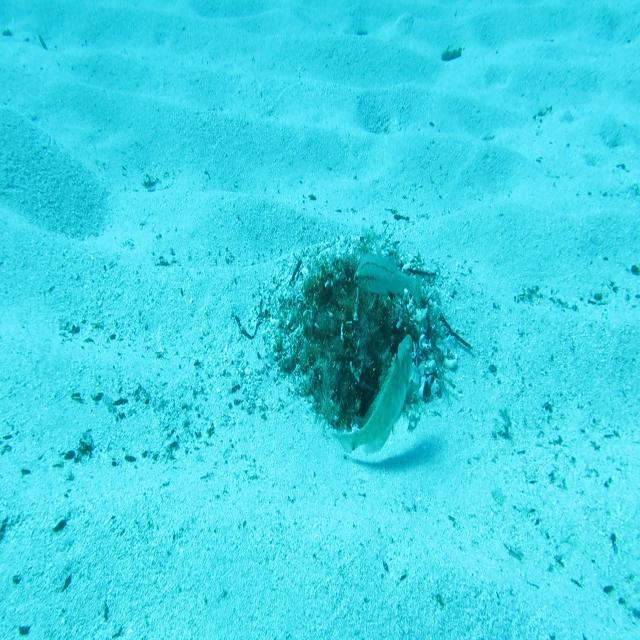GB: (328, 332, 414, 459)
core_nest: (326, 267, 375, 326)
female: (353, 249, 423, 312)
nest: (257, 233, 468, 469)
vegetation: (443, 46, 461, 64)
